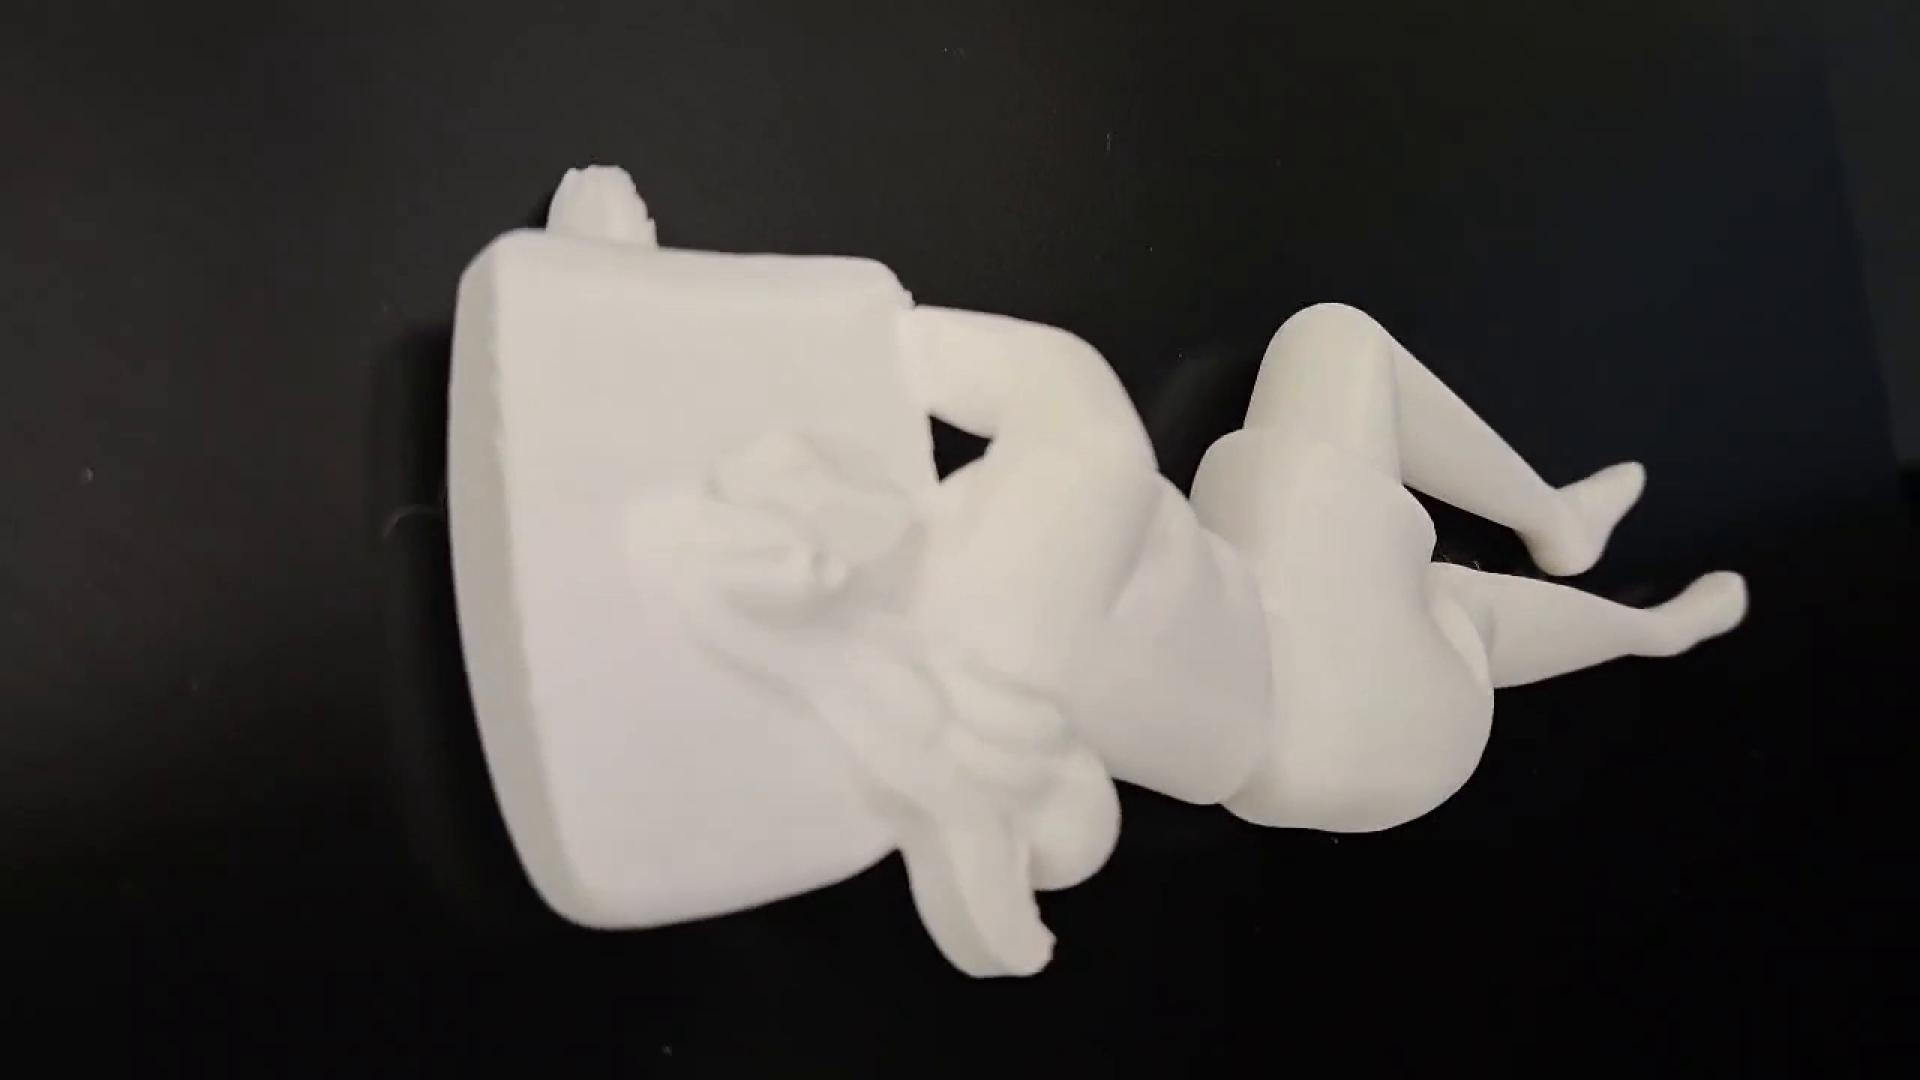Good-style: (363, 137, 1782, 992)
